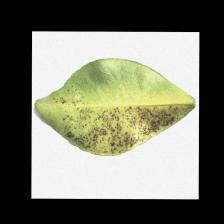canker: (103, 116, 160, 139)
